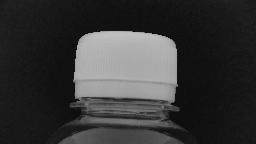Good Cap: (65, 26, 185, 116)
